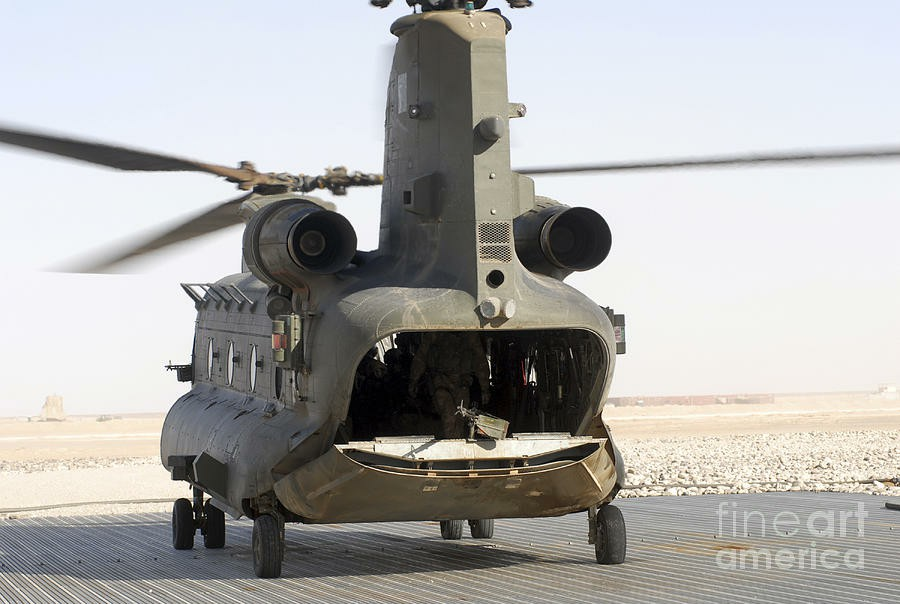chinook: (68, 7, 749, 578)
